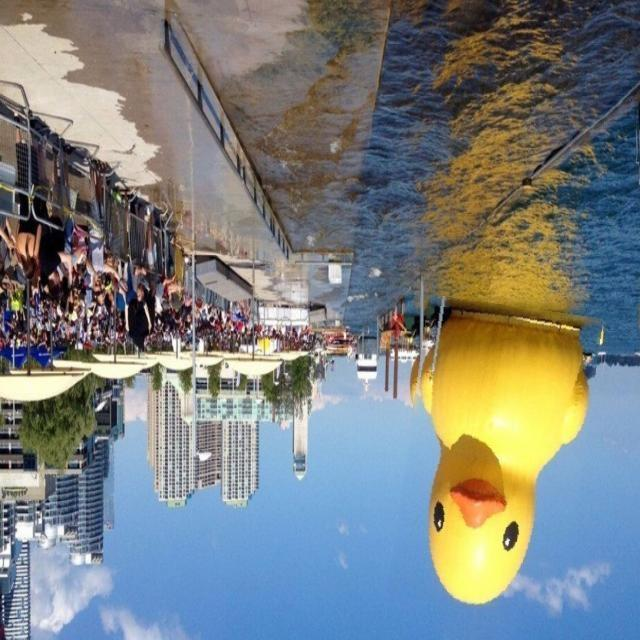rubber-duck: (421, 310, 586, 602)
